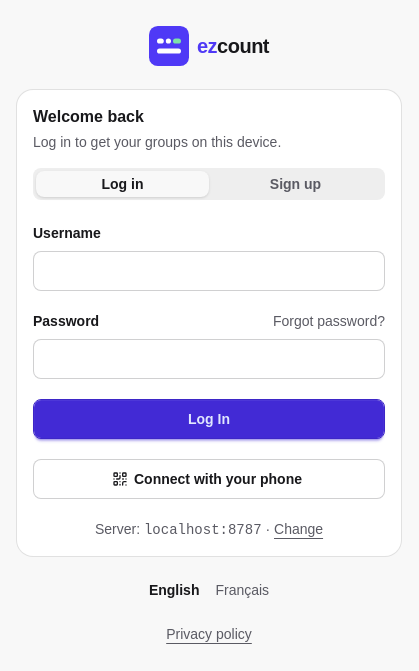
Scenario: AuthScreen › speaks the language picked at its bottom
Click the button "Français": (242, 590) [215,580,269,600]
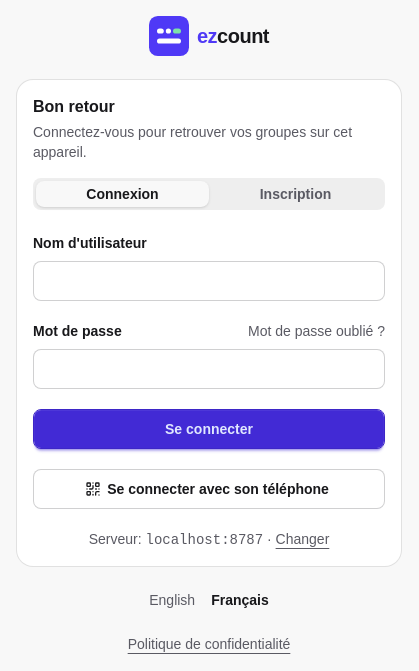
Result: the heading reads "Bon retour" at [33,98,115,115]
Result: the heading "Welcome back" no longer shows "Welcome back"
